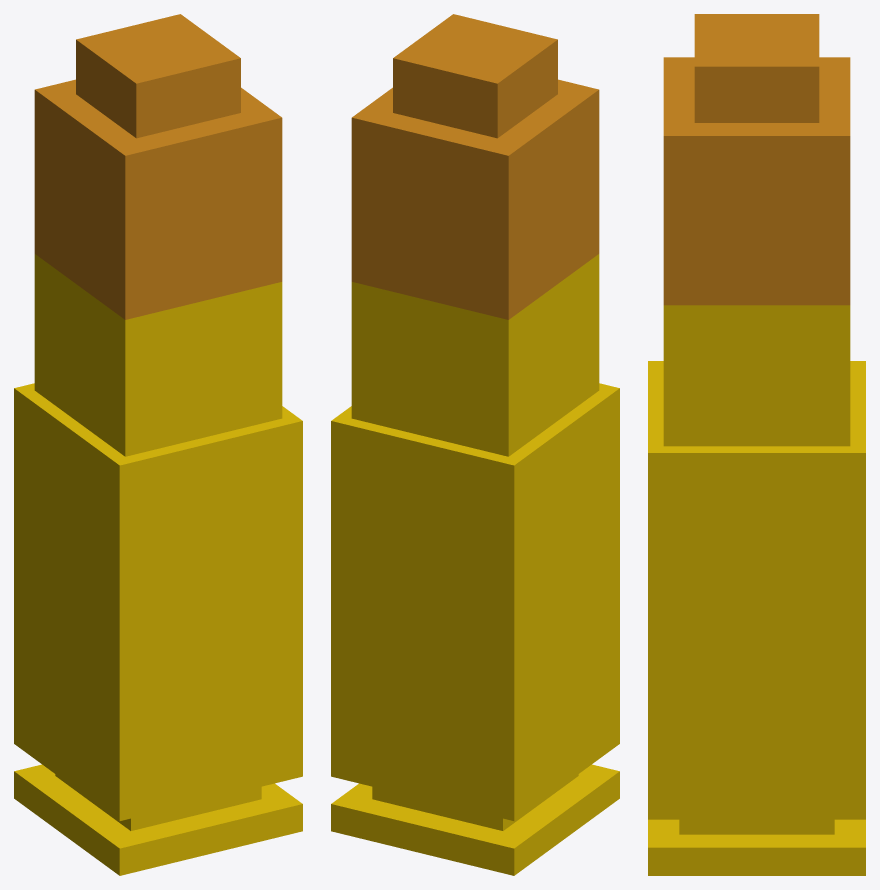
File: old_pistol_bullet.fbx
The picture shows the model from 3 angles, left to right: view 1: azimuth 30°, elevation 25°; view 2: azimuth 150°, elevation 25°; view 3: azimuth 270°, elevation 25°; orthographic projection. The views are drawn at different scales.
Parts seen in each view (by area): view 1: old_pistol_capsule, old_pistol_bullet; view 2: old_pistol_capsule, old_pistol_bullet; view 3: old_pistol_capsule, old_pistol_bullet.
Boxes of the visible parts, x1,y1,x2,y2 form: old_pistol_capsule: (14,254,302,875); old_pistol_bullet: (34,14,282,319); old_pistol_capsule: (331,254,619,875); old_pistol_bullet: (351,14,599,319); old_pistol_capsule: (648,305,865,875); old_pistol_bullet: (663,14,850,305).
Size of the model in its own units: 2.1 by 8.4 by 2.1.
